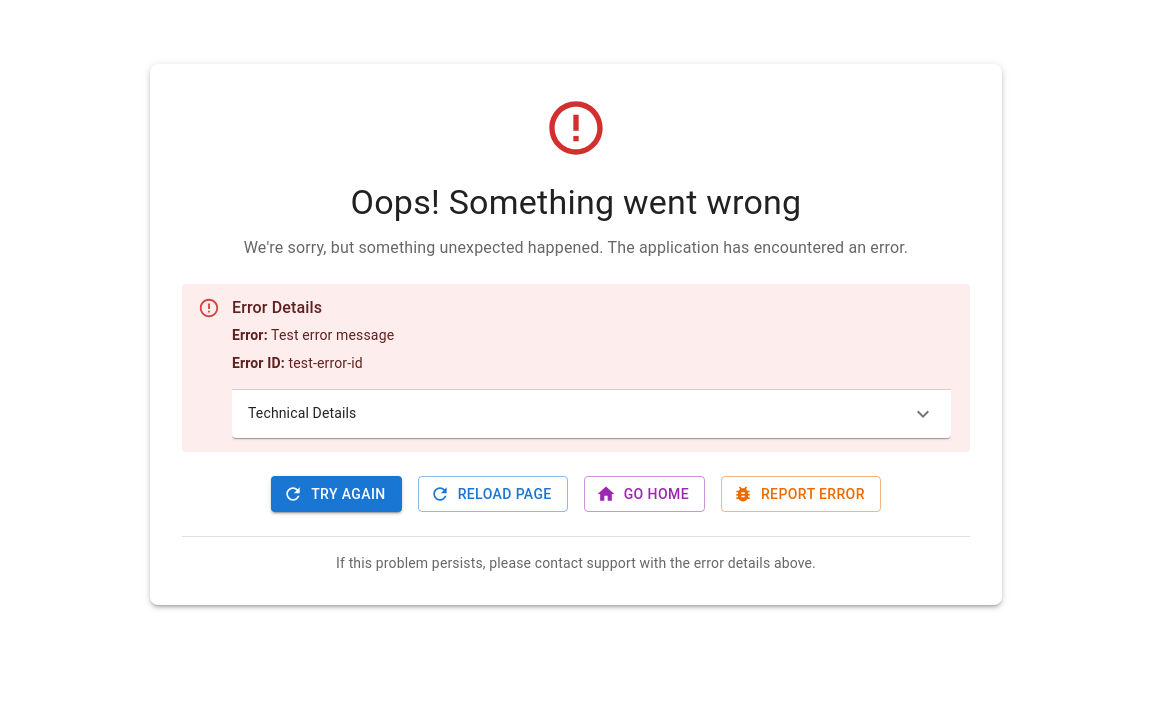
Test: ErrorBoundary › shows technical details in accordion
Expected: the text "Technical Details" is shown, [248, 404, 356, 424]
What coordinates should you click on to do the following:
click the button "Technical Details"
I would click on:
 (302, 413)
Its box is [248, 402, 935, 426].
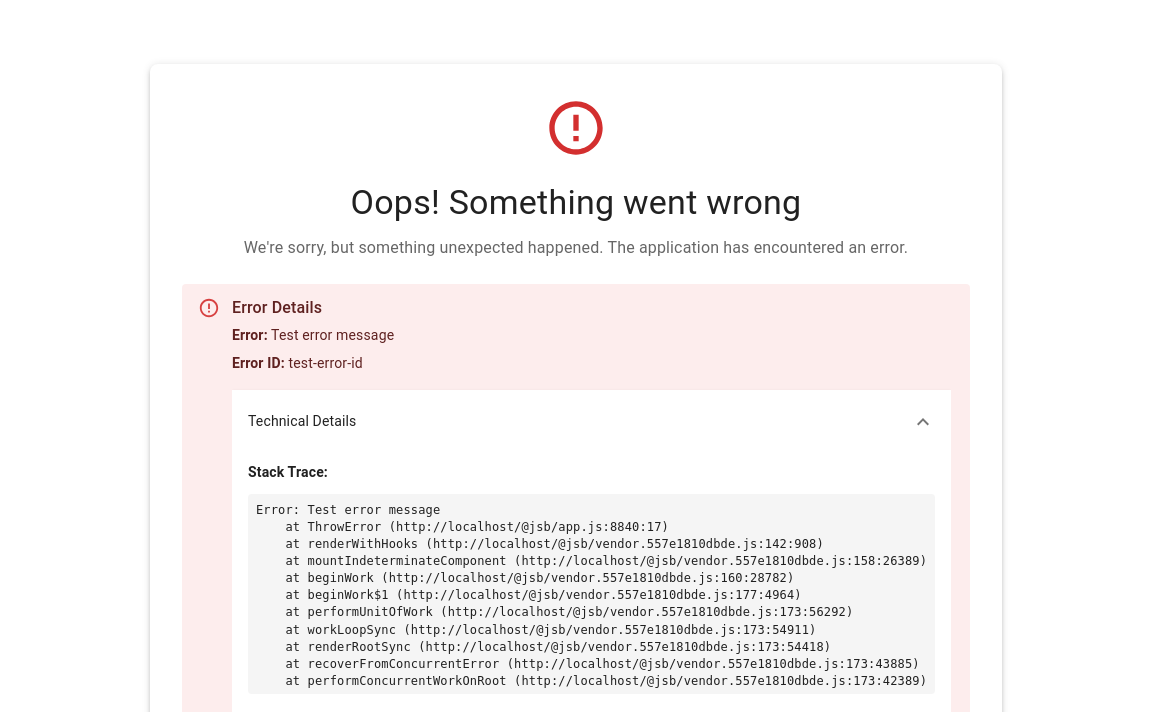
Expected: the text "Stack Trace:" is shown, [248, 464, 328, 480]
